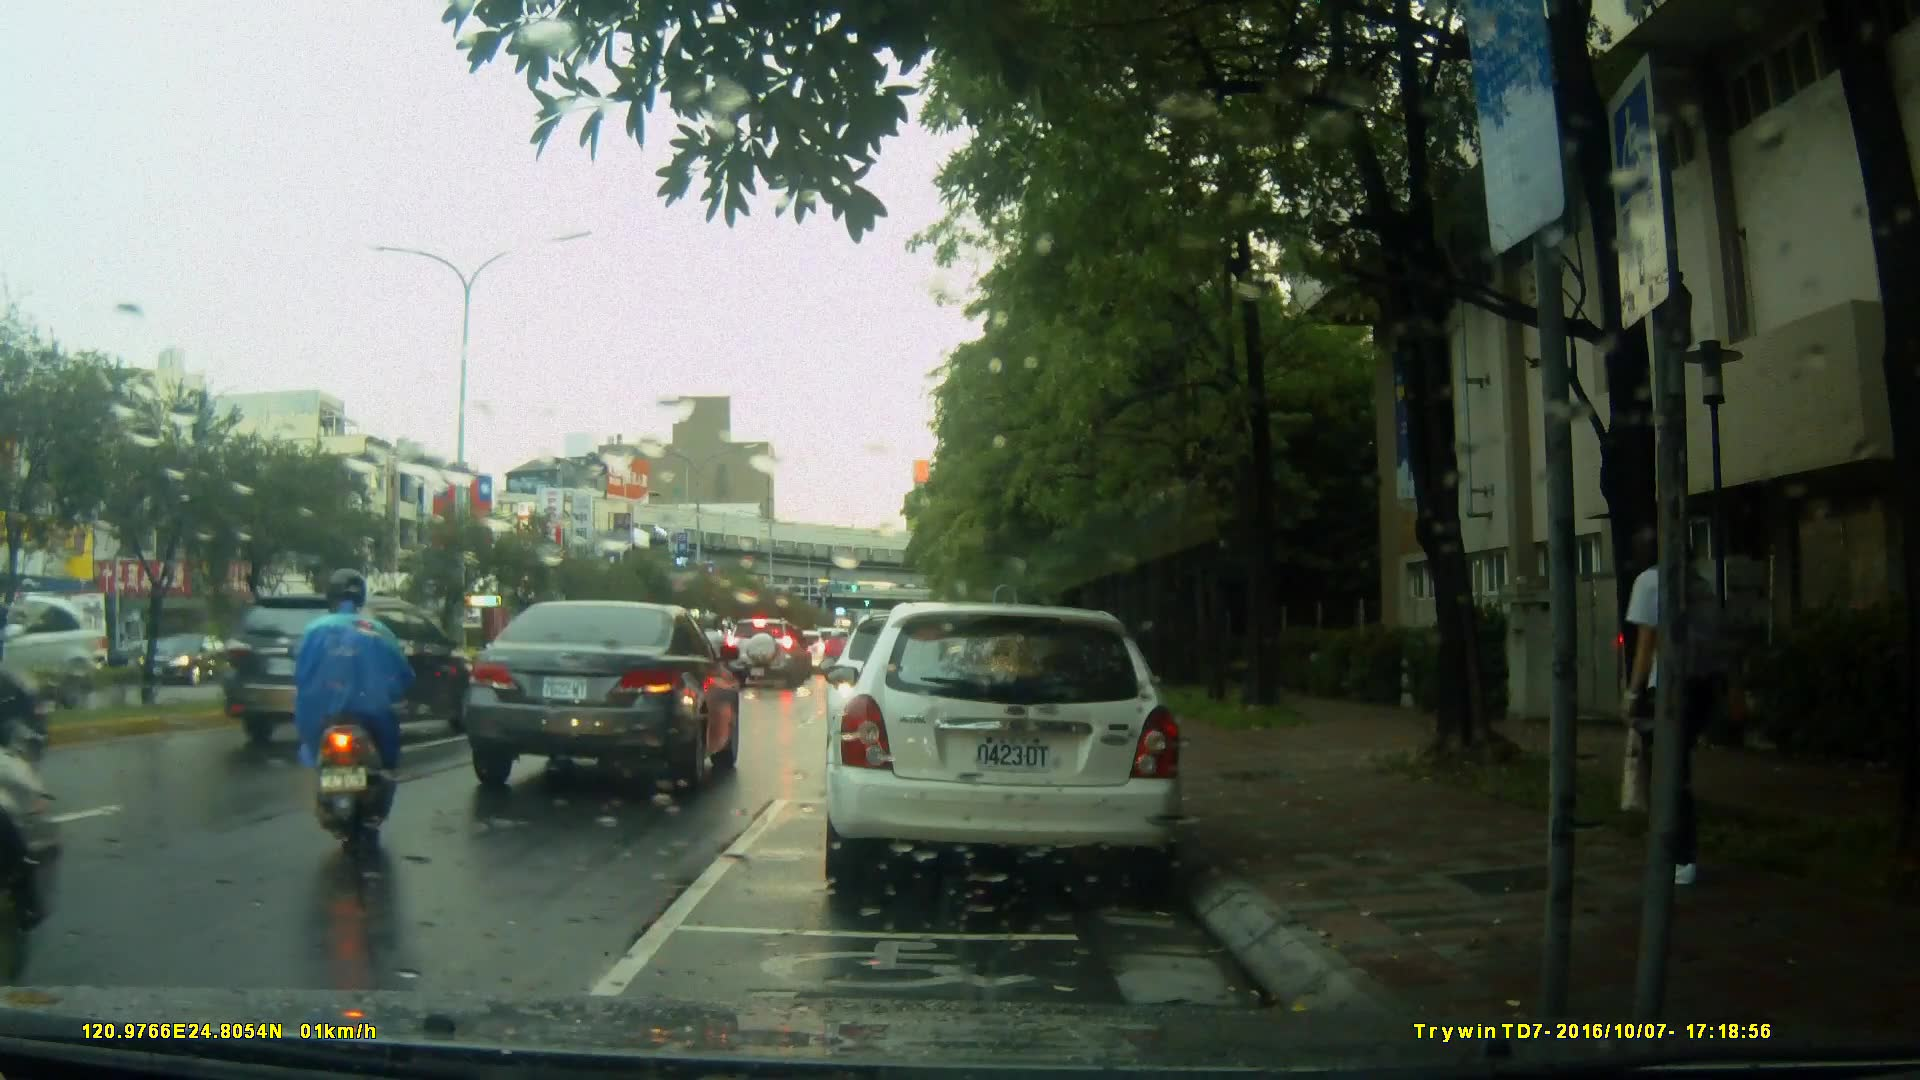pedestrian: (1594, 511, 1746, 887)
rider: (301, 565, 418, 856), (683, 609, 734, 708), (824, 625, 858, 698)
vehicle: (820, 602, 1188, 898), (466, 599, 745, 797), (216, 592, 483, 749), (6, 601, 114, 704), (728, 617, 811, 691)
